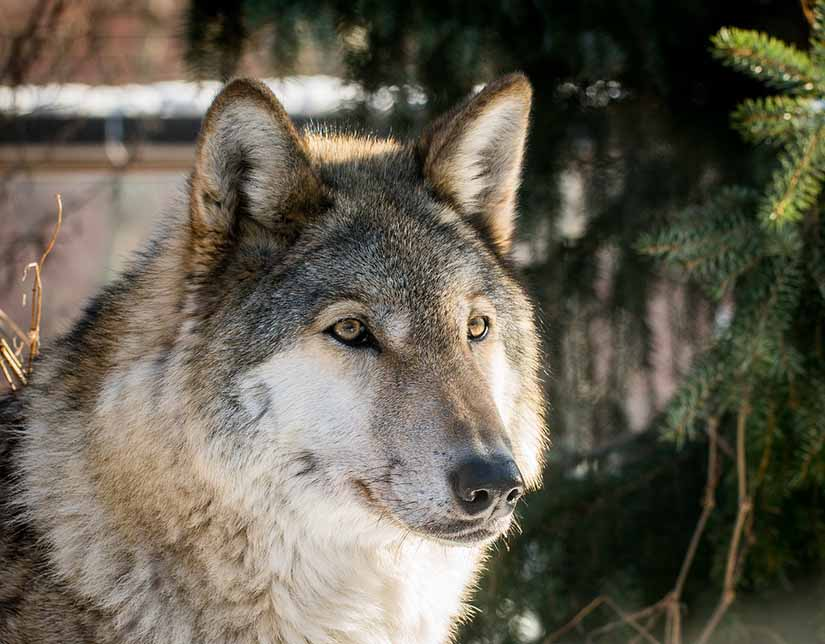Lobo: (25, 51, 567, 614)
